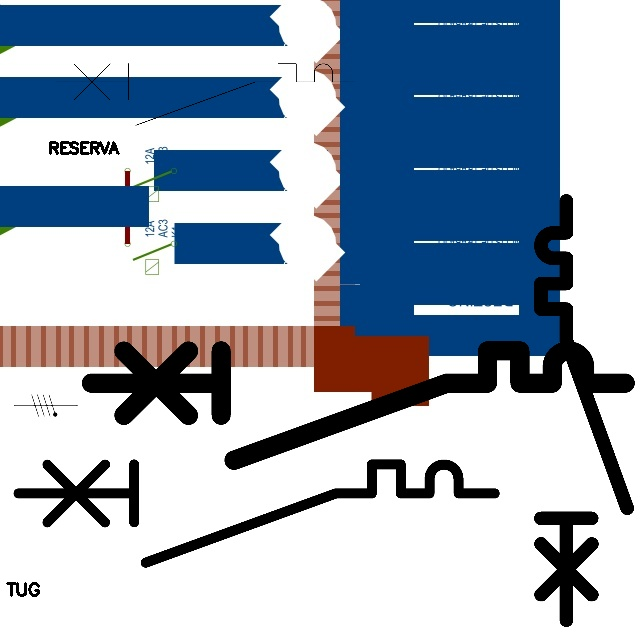interruptor_termomagnetico: (77, 337, 638, 474), (6, 452, 507, 574), (530, 190, 638, 631), (48, 56, 363, 133)
